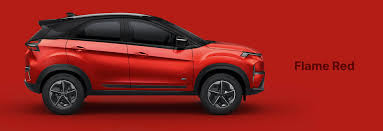Tata Nexon: (23, 11, 265, 117)
